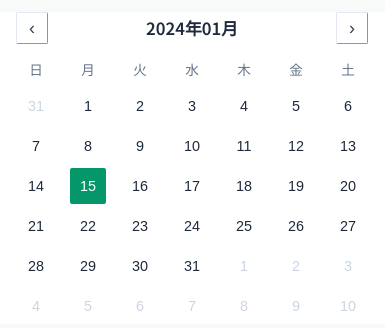
Test: DailyReportCalendar › デスクトップ表示（月ビュー） › 前月ボタンをクリックすると前月が表示される
Click the button named "前月" at (32, 28), box [16,12,48,44]
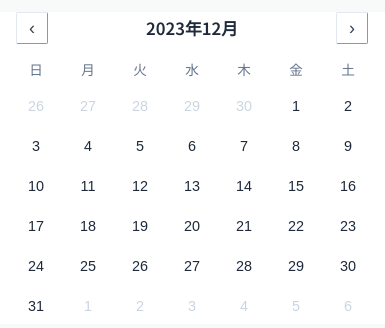
Check: the text "2023年12月" is shown, box [146,15,238,42]
